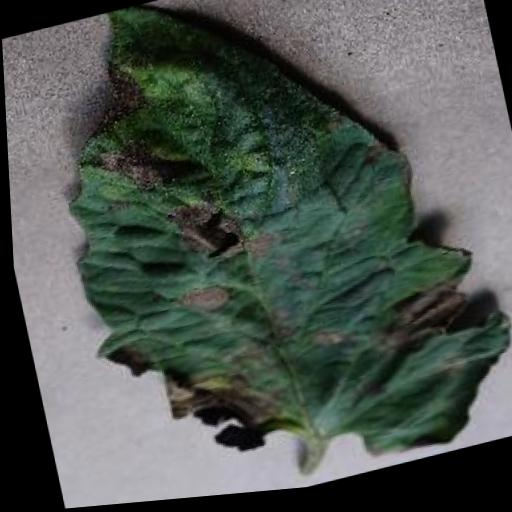Early Blight: (25, 0, 512, 510)
